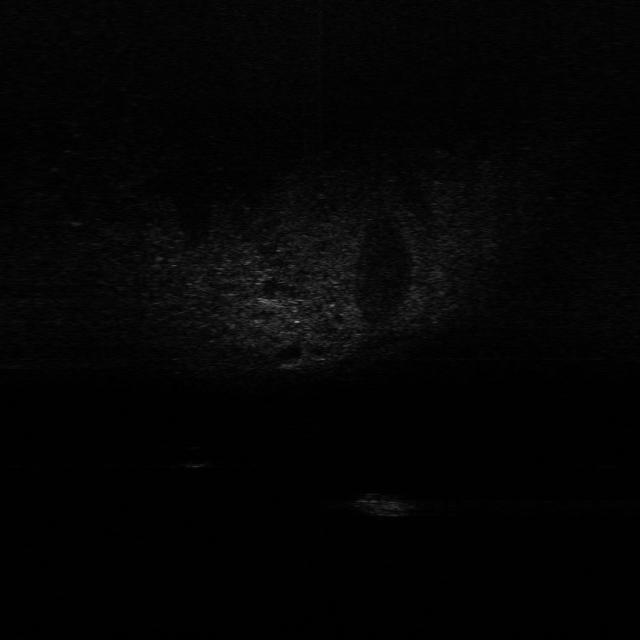ball: (174, 442, 217, 471)
circle cage: (326, 488, 433, 524)
